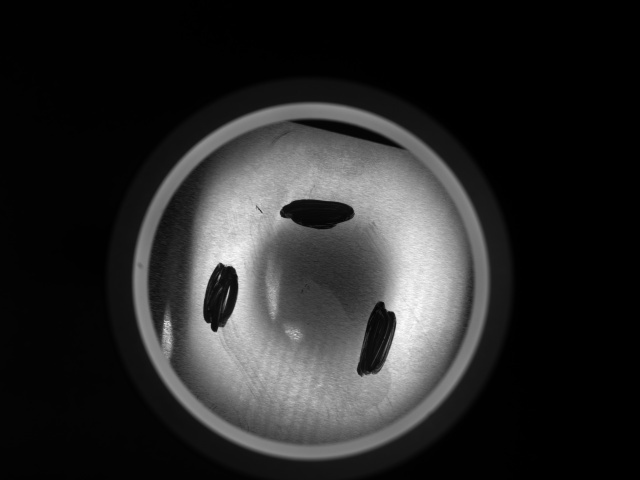zang_wu: (350, 297, 397, 377), (199, 261, 246, 332), (277, 195, 361, 231)
